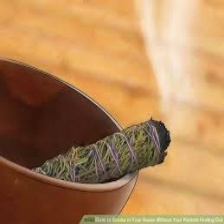smoke: (147, 1, 195, 118)
